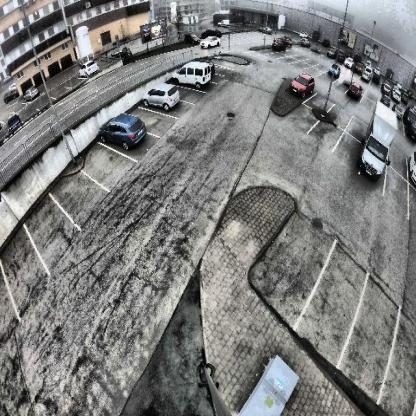free: (267, 242, 317, 308), (380, 328, 416, 416), (316, 282, 354, 360), (355, 311, 391, 384), (29, 218, 81, 260), (62, 177, 112, 219), (95, 148, 134, 187), (9, 262, 50, 299), (390, 173, 410, 214), (342, 123, 360, 163), (322, 116, 342, 151), (314, 86, 335, 107), (296, 106, 314, 130), (355, 103, 368, 134), (337, 101, 348, 125)
occupied: (365, 104, 395, 182), (100, 112, 149, 154), (143, 80, 183, 112), (174, 62, 213, 90), (291, 68, 315, 100)
